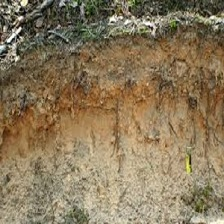sandy_soil: (17, 20, 212, 200)
